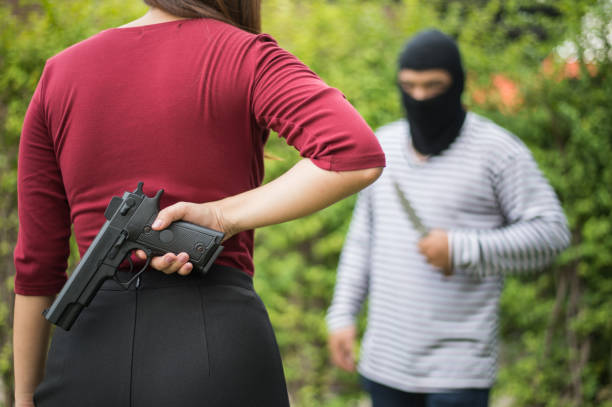gun: (42, 174, 226, 335)
knife: (392, 176, 454, 281)
